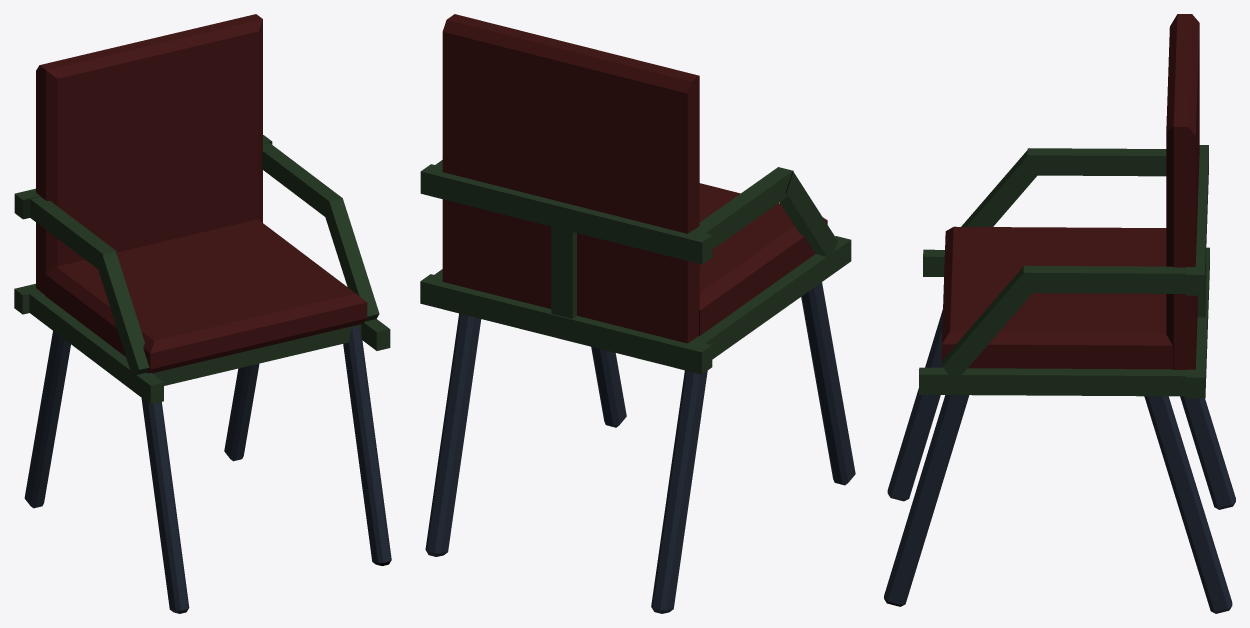
Rendered from Chair01.fbx.
3 renders of one model, left to right at view 1: azimuth 30°, elevation 25°; view 2: azimuth 150°, elevation 25°; view 3: azimuth 270°, elevation 25°, orthographic. The views are drawn at different scales.
Parts seen in each view (by area): view 1: polySurface64; view 2: polySurface64; view 3: polySurface64.
Part boxes in pixels (box(x1,y1,x2,y2)): polySurface64: box(14, 14, 391, 613); polySurface64: box(420, 14, 855, 613); polySurface64: box(884, 14, 1235, 613).
Size of the model in its own units: 65.23 by 114 by 74.69.
